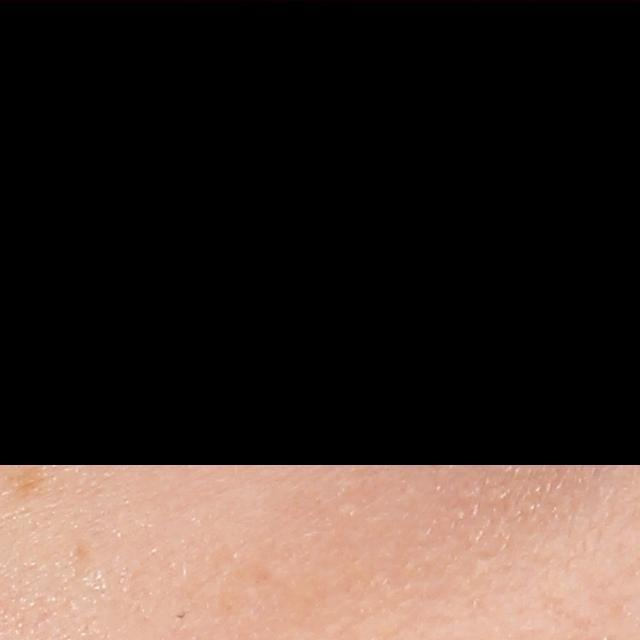melasma: (4, 463, 58, 502)
